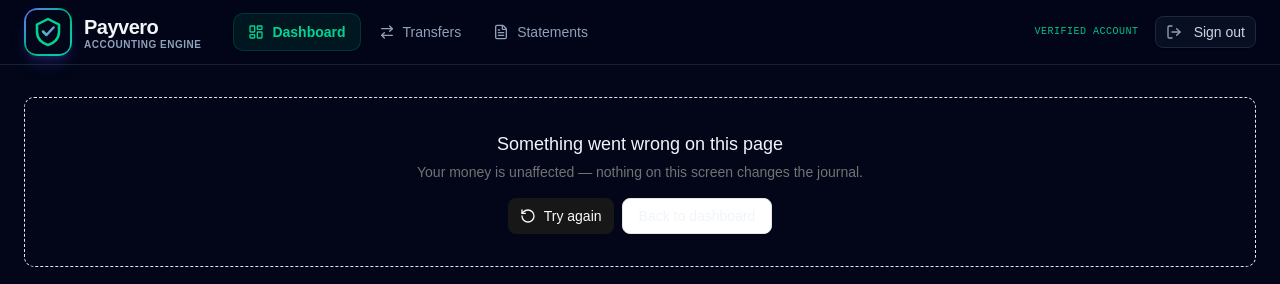
Test case: scope of the failure › clears the error on navigating to a different route
Expected: the message with test id "route-error" is shown, [24, 97, 1256, 267]
Click the link "Transfers". click: x=420, y=32
box: [378, 24, 461, 40]
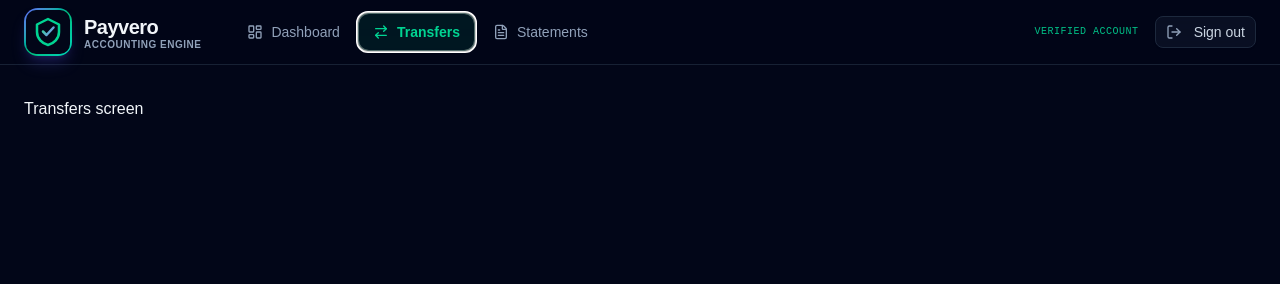
Result: the text "Transfers screen" is shown at [24, 100, 144, 117]
Result: the message with test id "route-error" is gone
